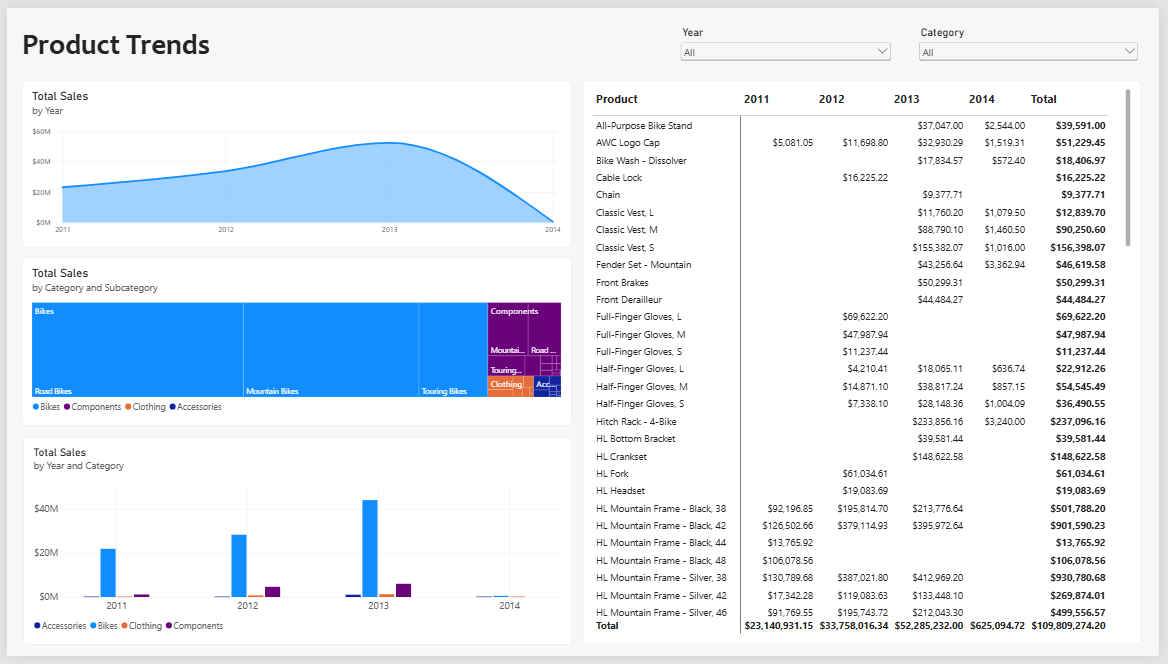

The dashboard page shown, as its layout file describes it:
{"tool":"powerbi","page":{"name":"Product Trends","canvas":[1920,1080],"ordinal":4},"visuals":[{"type":"stackedAreaChart","fields":{"Category":["dim_date.date_key.Variation.Date Hierarchy.Year","dim_date.date_key.Variation.Date Hierarchy.Month"],"Y":["_measure (others).Total Sales"]},"box":[25,120,915,280],"z":0},{"type":"textbox","box":[25.6,31.1,490,66.7],"z":1000},{"type":"clusteredColumnChart","fields":{"Category":["dim_date.date_key.Variation.Date Hierarchy.Year"],"Series":["dim_product.category"],"Y":["_measure (others).Total Sales"]},"box":[27.1,714.3,914.3,345.7],"z":2000},{"type":"pivotTable","fields":{"Columns":["dim_date.date_key.Variation.Date Hierarchy.Year"],"Rows":["dim_product.product_name"],"Values":["_measure (others).Total Sales"]},"box":[960,120,930,940],"z":3000},{"type":"treemap","fields":{"Details":["dim_product.subcategory"],"Group":["dim_product.category"],"Values":["_measure (others).Total Sales"]},"box":[25.7,415.7,915.7,281.4],"z":4000},{"type":"slicer","fields":{"Values":["dim_product.category"]},"box":[1515,30,375,67.5],"z":5000},{"type":"slicer","fields":{"Values":["dim_date.date_key.Variation.Date Hierarchy.Year"]},"box":[1116.7,30,360,66.7],"z":6000}]}

Visuals, with their boxes in screenshot pixels (x1, y1, x2, y2), scaled from the page's 1920x1080 canvas onto the 1168x664 screenshot:
stackedAreaChart - dim_date.date_key.Variation.Date Hierarchy.Year x dim_date.date_key.Variation.Date Hierarchy.Month: BBox(15, 74, 572, 246)
textbox: BBox(16, 19, 314, 60)
clusteredColumnChart - dim_date.date_key.Variation.Date Hierarchy.Year x dim_product.category: BBox(16, 439, 573, 652)
pivotTable - dim_date.date_key.Variation.Date Hierarchy.Year x dim_product.product_name: BBox(584, 74, 1150, 652)
treemap - dim_product.subcategory x dim_product.category: BBox(16, 256, 573, 429)
slicer - dim_product.category: BBox(922, 18, 1150, 60)
slicer - dim_date.date_key.Variation.Date Hierarchy.Year: BBox(679, 18, 898, 59)
